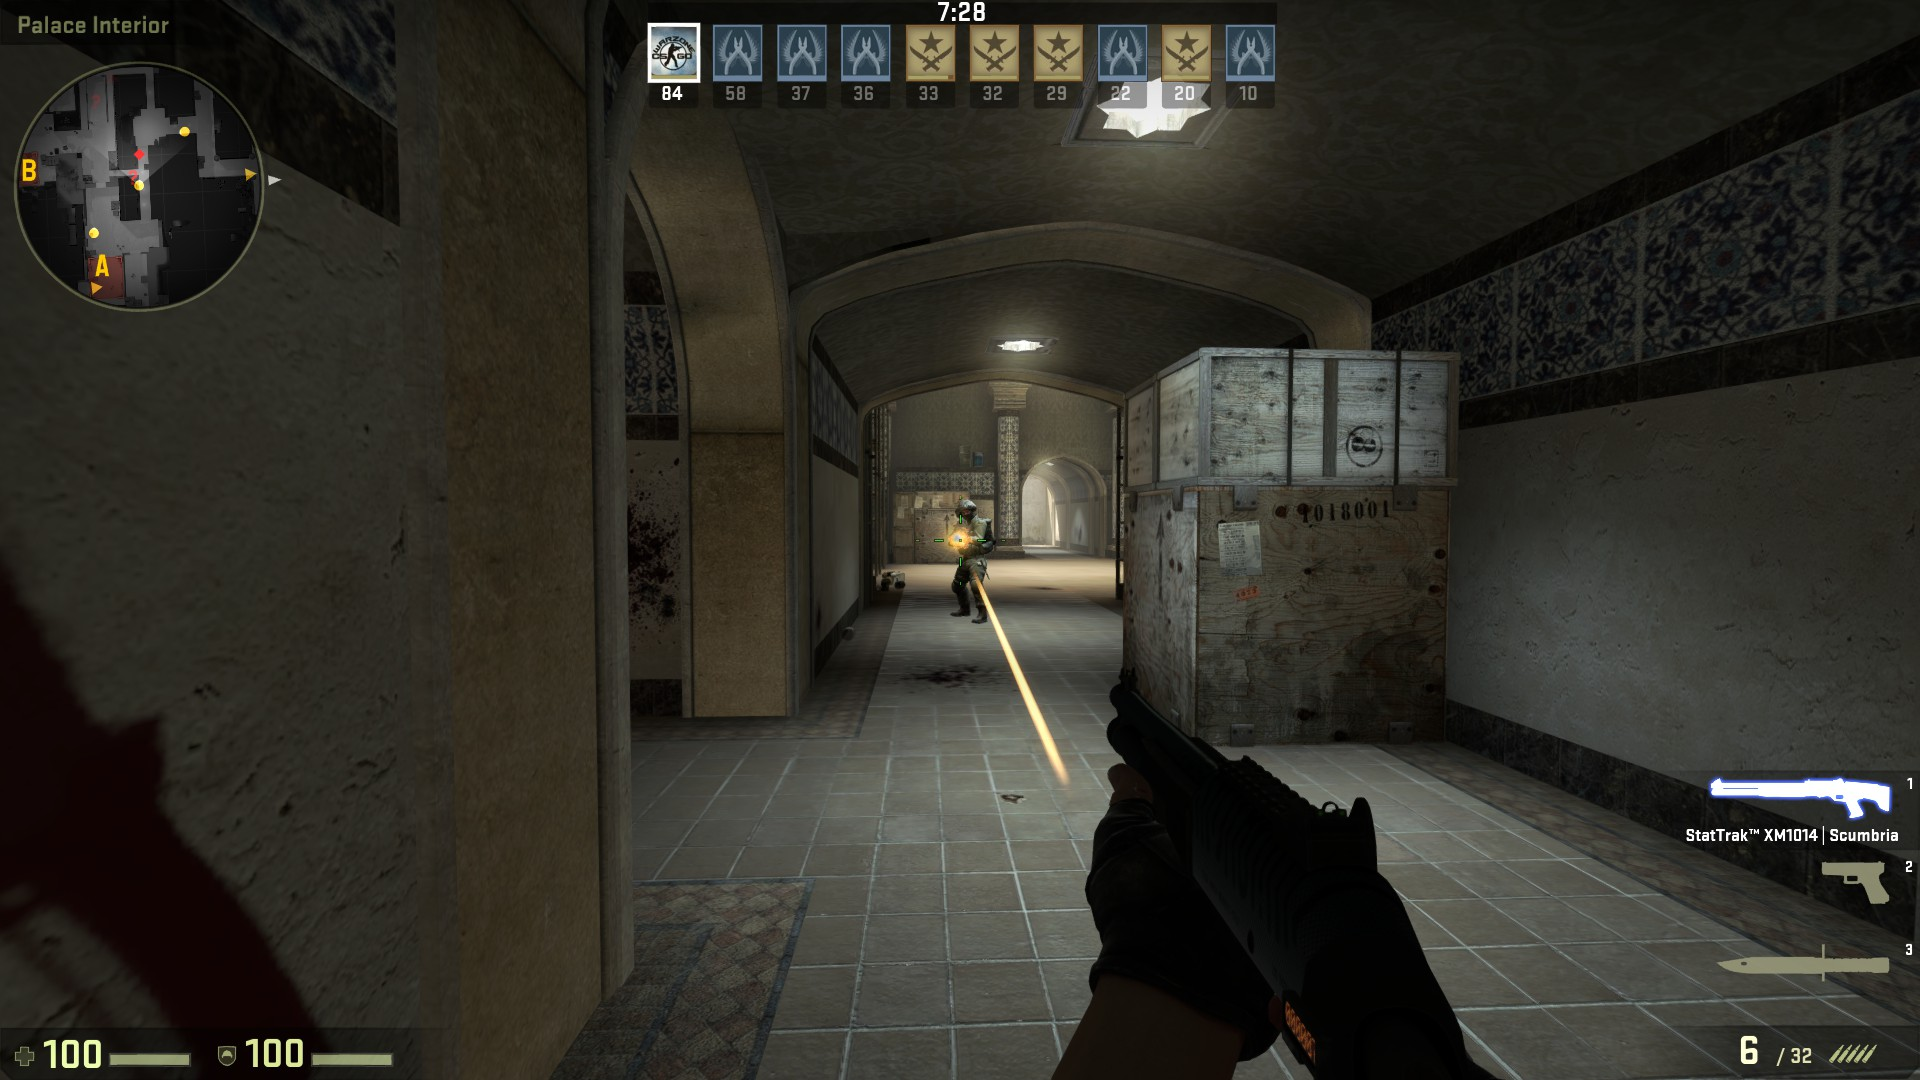c: (945, 496, 993, 624)
ch: (953, 496, 982, 524)
